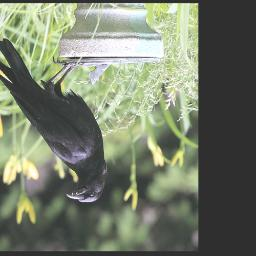Crow: (0, 36, 107, 203)
